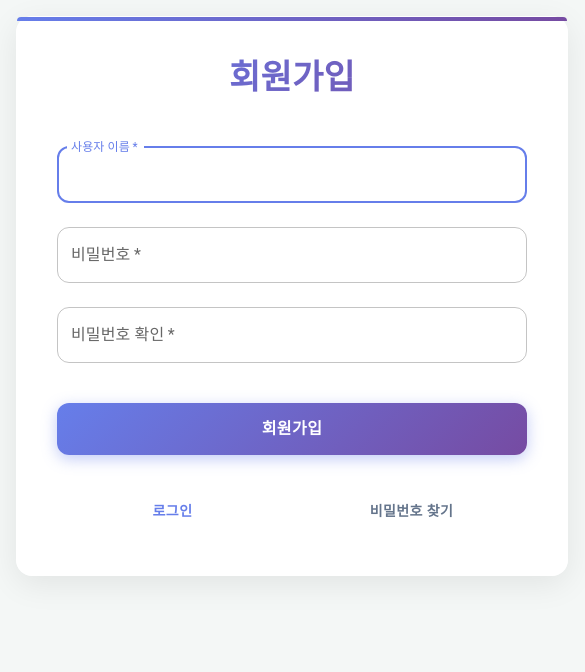
Test: RegisterPage › should display error when passwords do not match
The width and height of the screenshot is (585, 672).
Step 1. Type "testuser" into the field labelled "사용자 이름 *" → [292, 175], box [57,147,527,203]
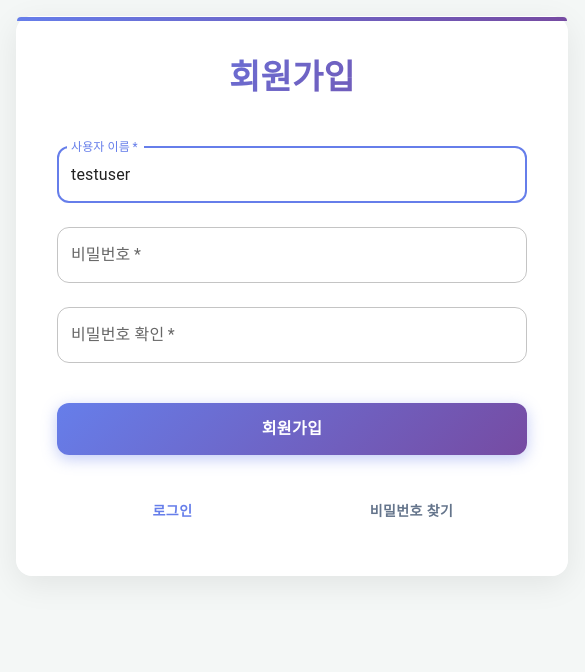
Step 2. Type "password123" into the password field labelled "비밀번호 *" → [292, 255], box [57,227,527,283]
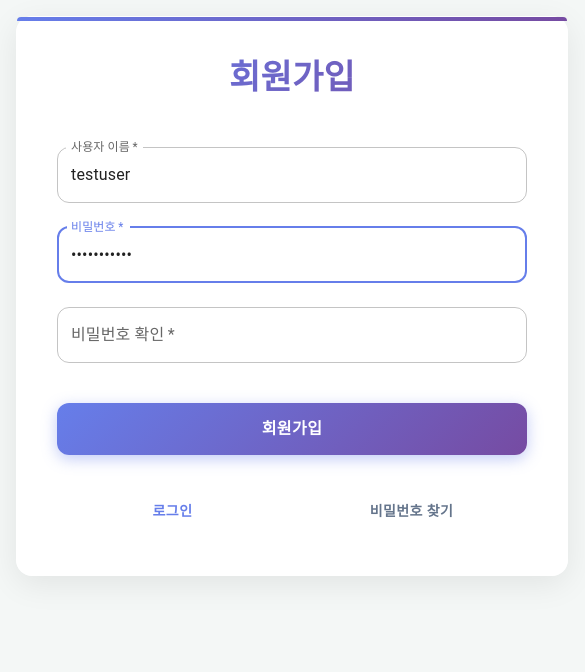
Step 3. Type "password456" into the password field labelled "비밀번호 확인 *" → [292, 335], box [57,307,527,363]
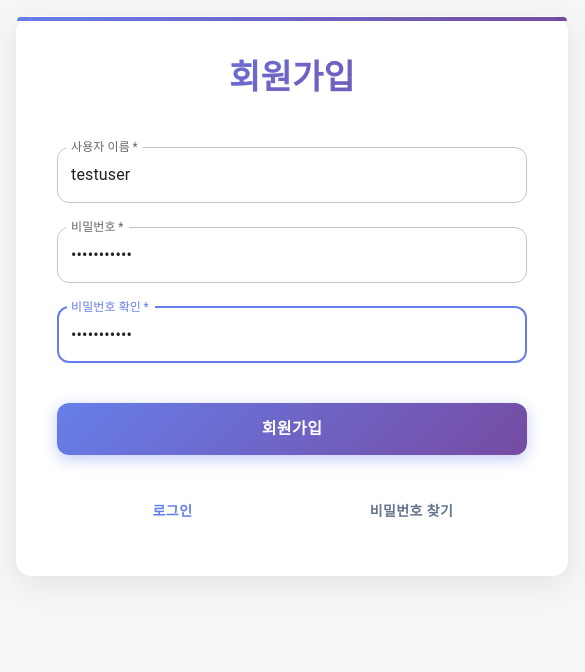
Step 4. Click the button "회원가입" → [292, 429], box [57,403,527,455]
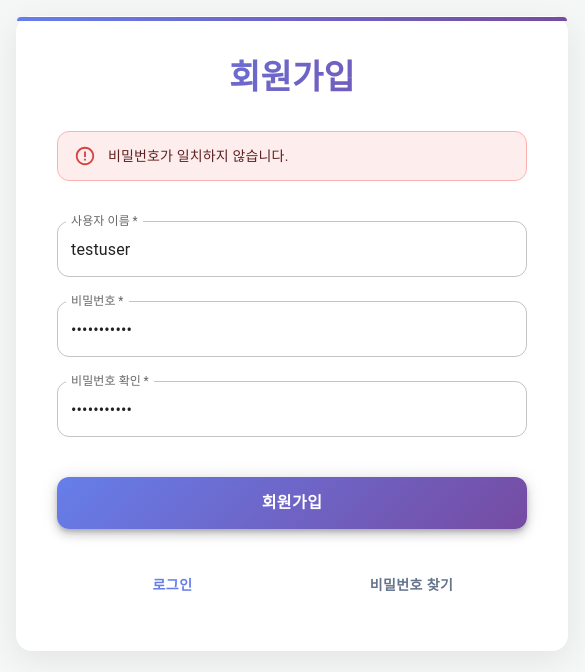
expect the text "비밀번호가 일치하지 않습니다." is shown: met, box [108,148,288,164]
